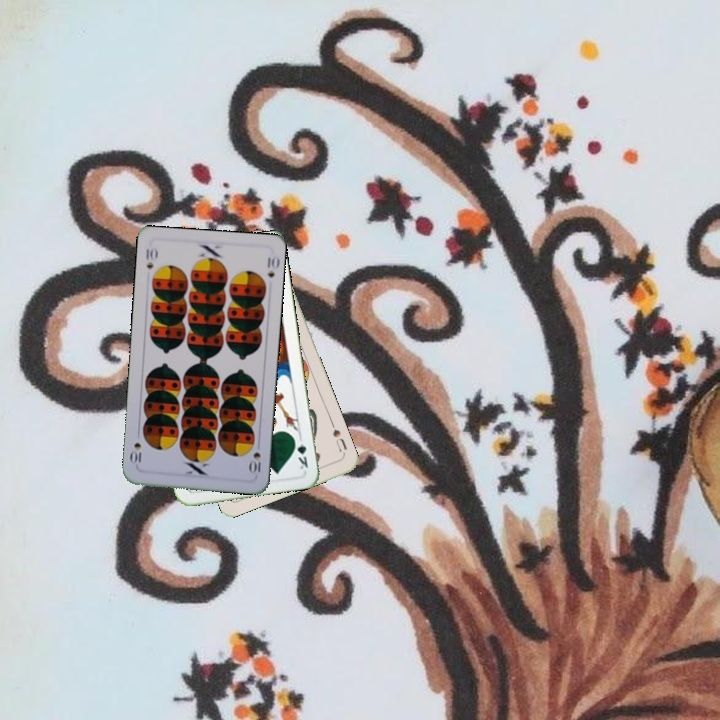GK: (290, 432, 311, 472)
S10: (246, 437, 263, 478), (142, 243, 160, 272)
SU: (327, 418, 349, 454)
